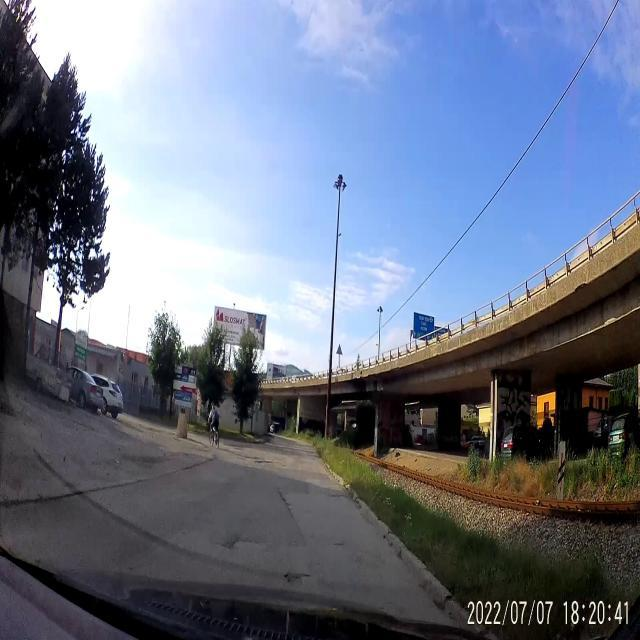Pothole: (280, 562, 318, 588), (223, 534, 267, 552), (276, 488, 297, 517), (254, 458, 287, 471), (330, 490, 348, 500), (331, 540, 347, 548)
